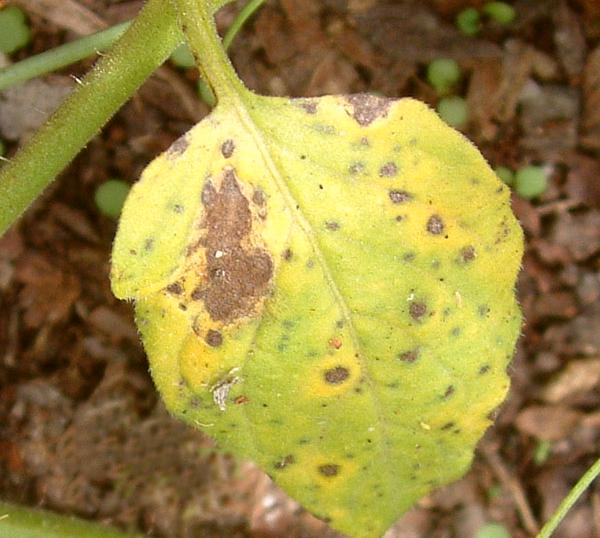Tomato Early blight leaf: (120, 68, 524, 527)
